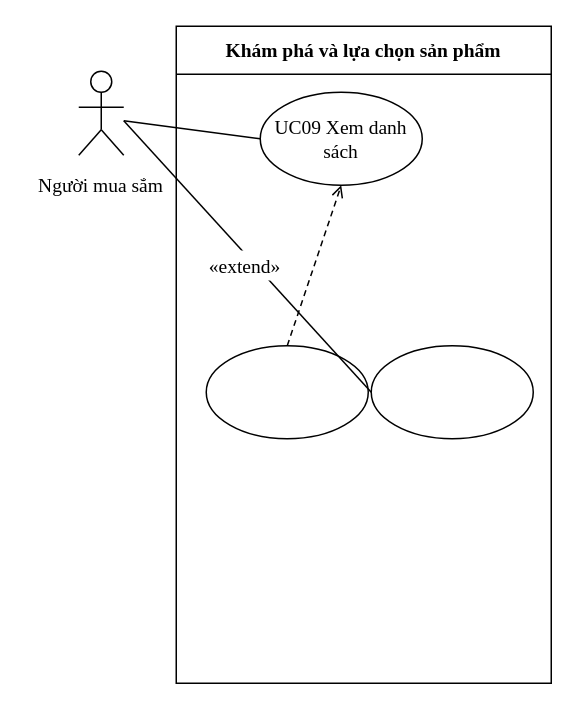
This 579x710 diagram has some shape labels left out. The shapes that lost their labels are listed below. From the top down, each one's box as (x1, y1, x2, y2) in pixels, then its label:
(205, 344, 368, 439): UC12 Sắp xếp sản phẩm
(370, 344, 533, 439): UC13 Xem chi tiết
